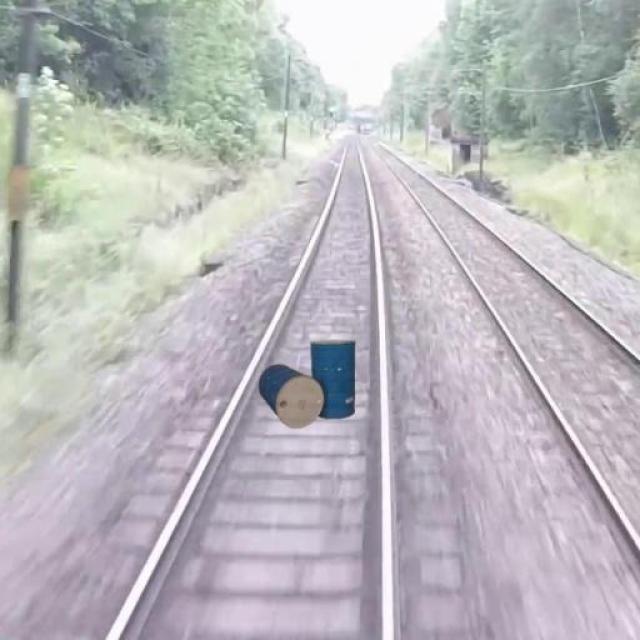Other_objects: (253, 333, 366, 426)
